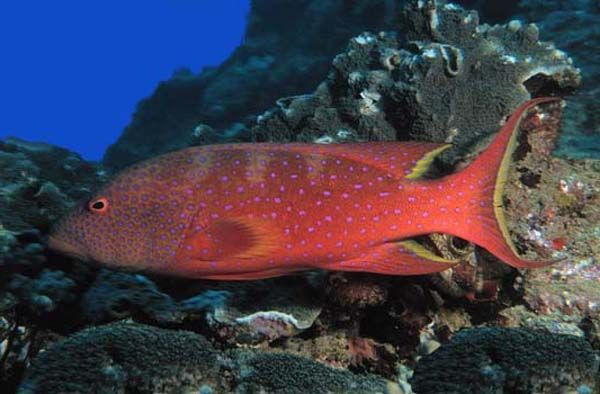fish: (47, 96, 559, 280)
